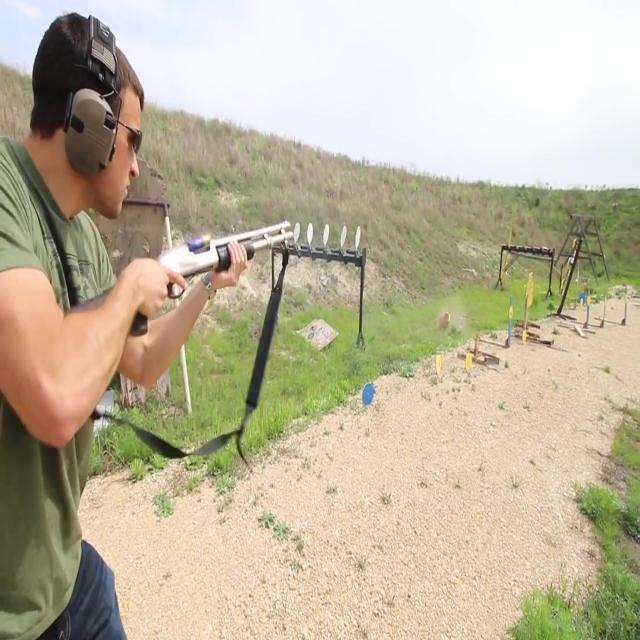Weapon: (36, 166, 318, 400)
